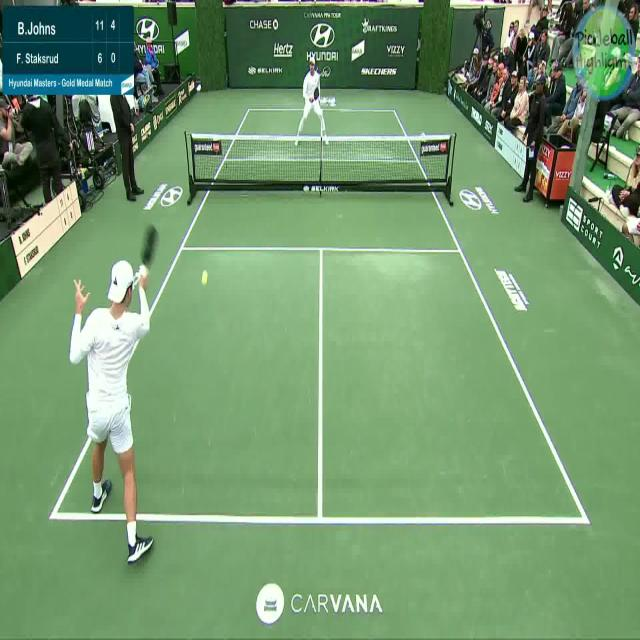ball: (200, 267, 210, 286)
